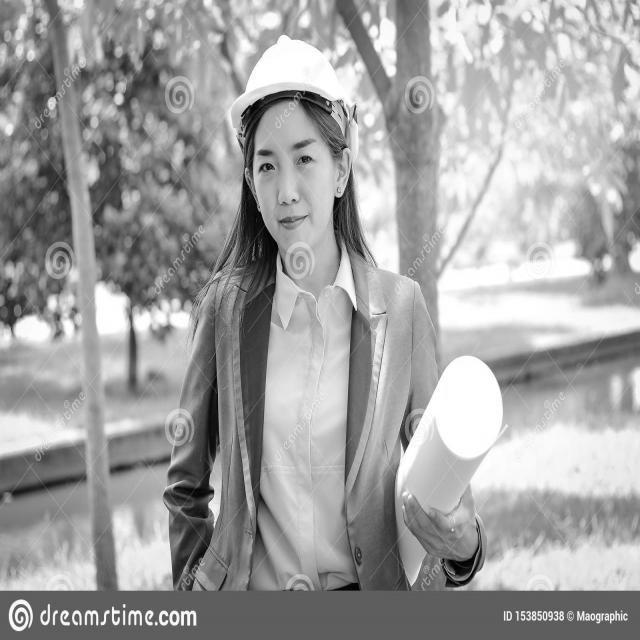safety_helmet: (229, 37, 358, 170)
